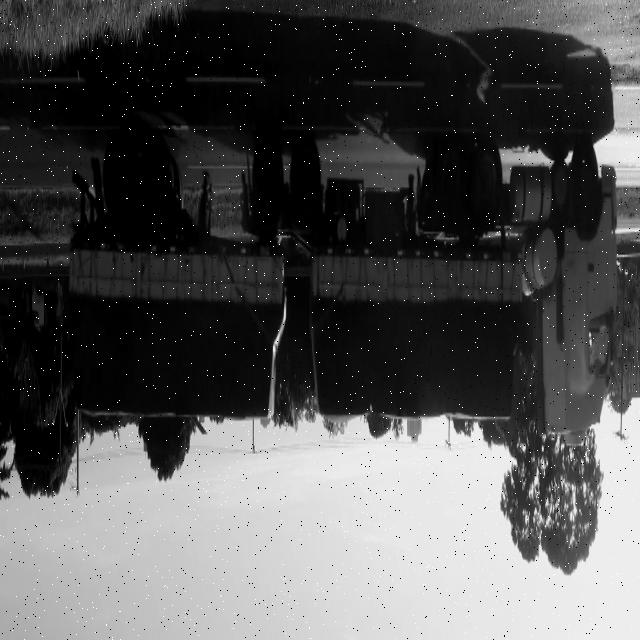-axle: (140, 139, 173, 231), (470, 146, 506, 230), (253, 139, 285, 228), (105, 142, 134, 230), (292, 137, 321, 225), (572, 136, 601, 223), (438, 147, 464, 230)
